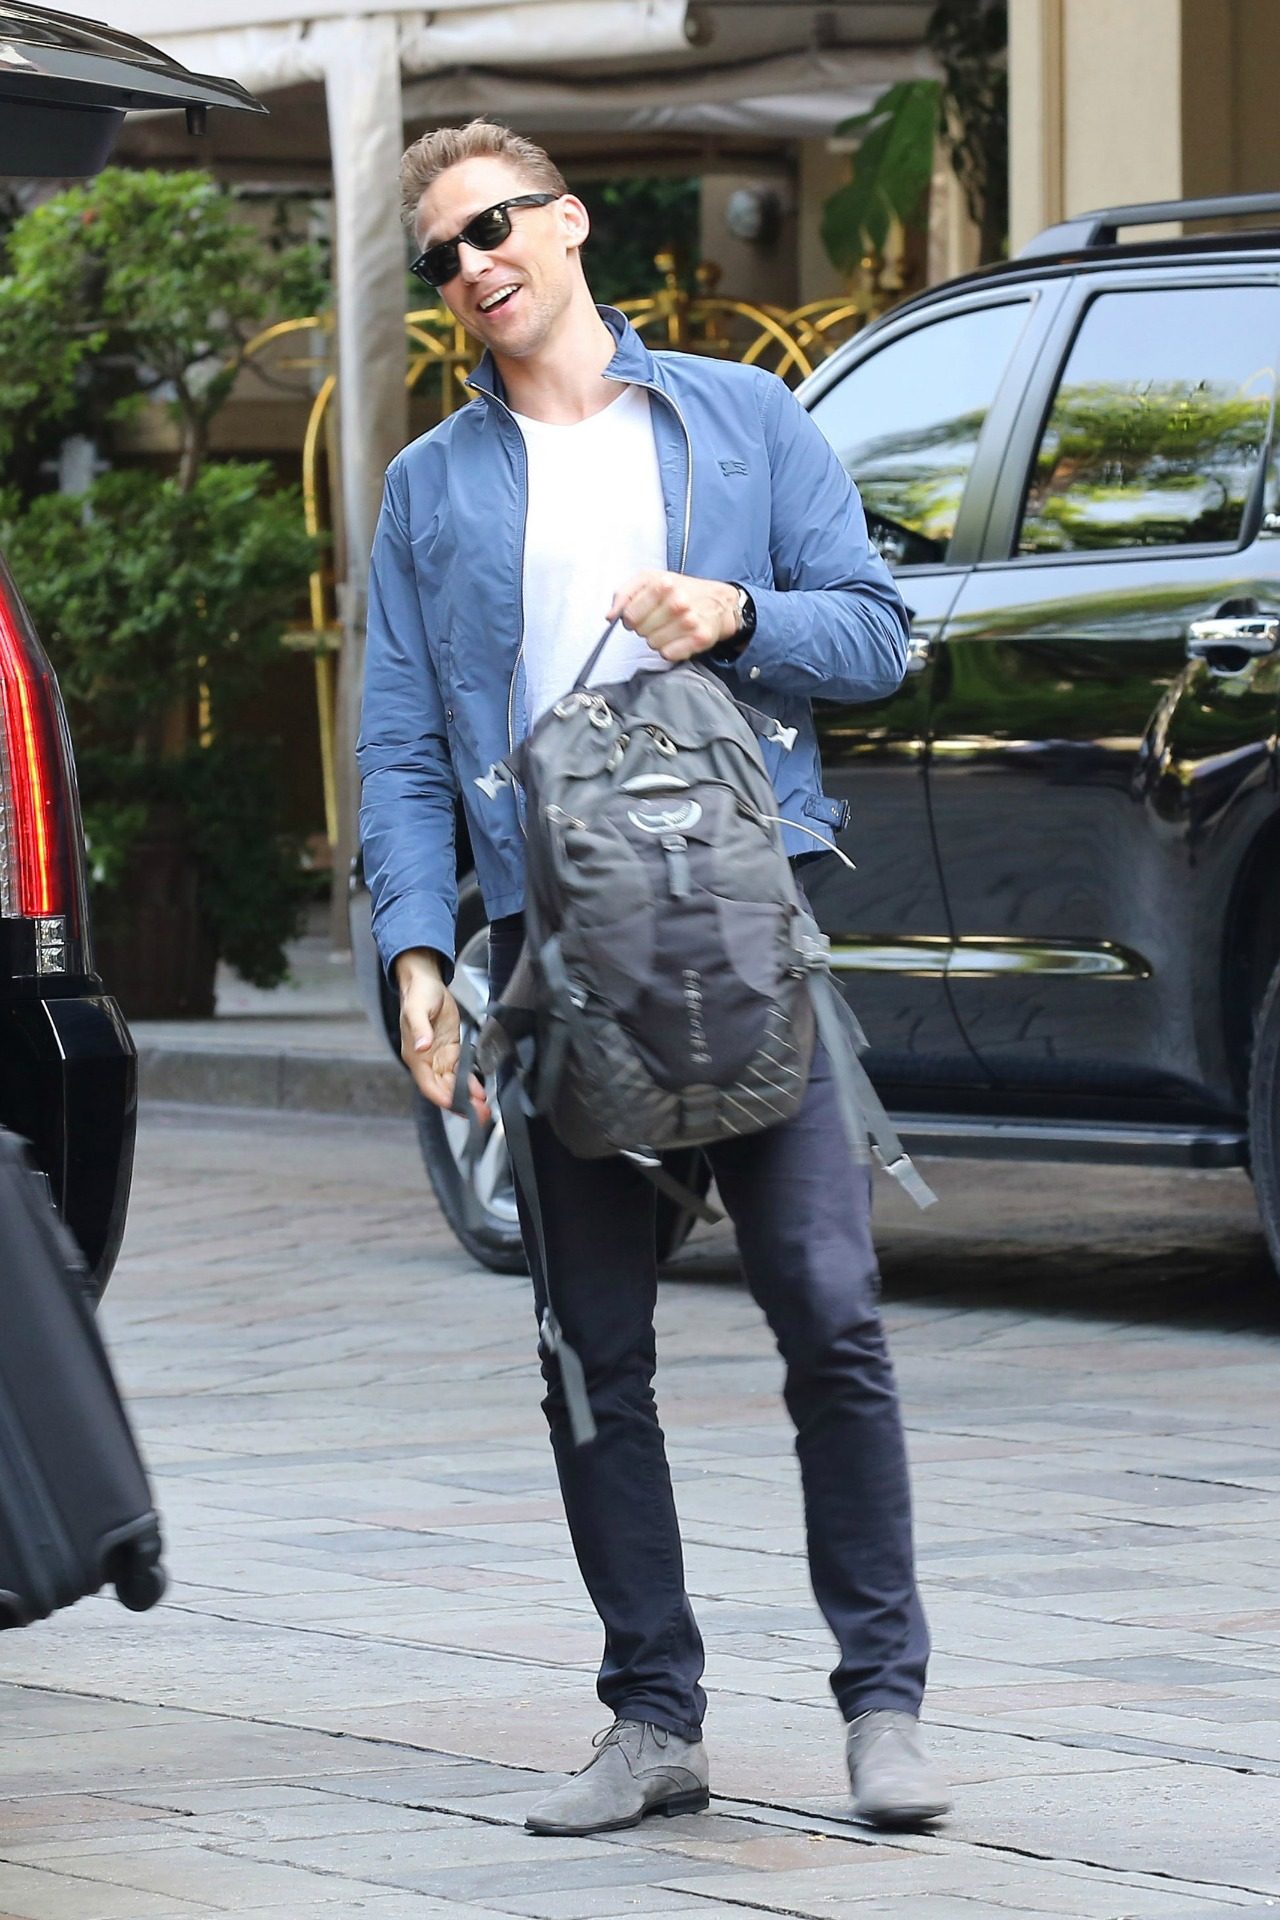sunglasses: (397, 214, 549, 280)
